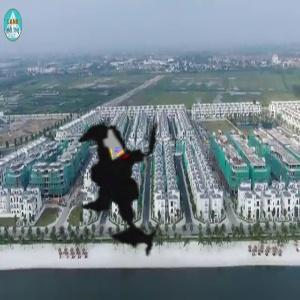drone: (27, 79, 238, 290)
